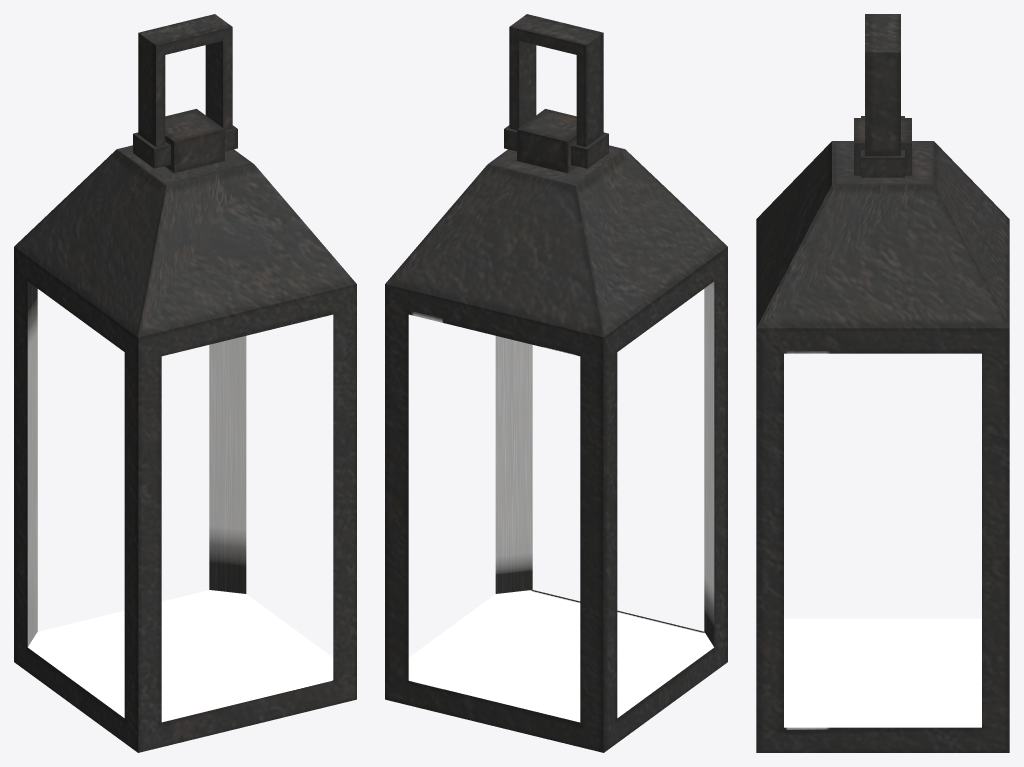
File: lantern.FBX
3 renders of one model, left to right at view 1: azimuth 30°, elevation 25°; view 2: azimuth 150°, elevation 25°; view 3: azimuth 270°, elevation 25°, orthographic. The views are drawn at different scales.
Visible parts, largest first — view 1: Box001; view 2: Box001; view 3: Box001.
Part boxes in pixels (x1,y1,x2,y2): Box001: (14,14,356,752); Box001: (385,14,727,752); Box001: (756,14,1009,752).
Bounding box in the file's own units: 31.14 × 88.57 × 30.6.
